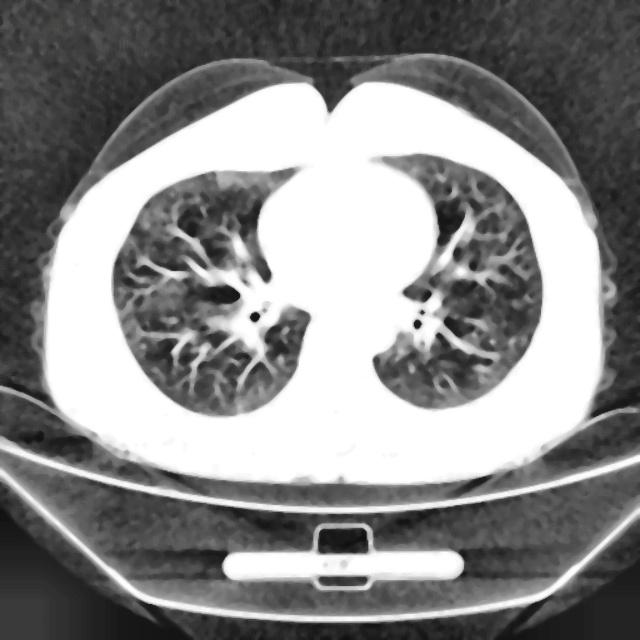covid: (36, 56, 612, 489)
